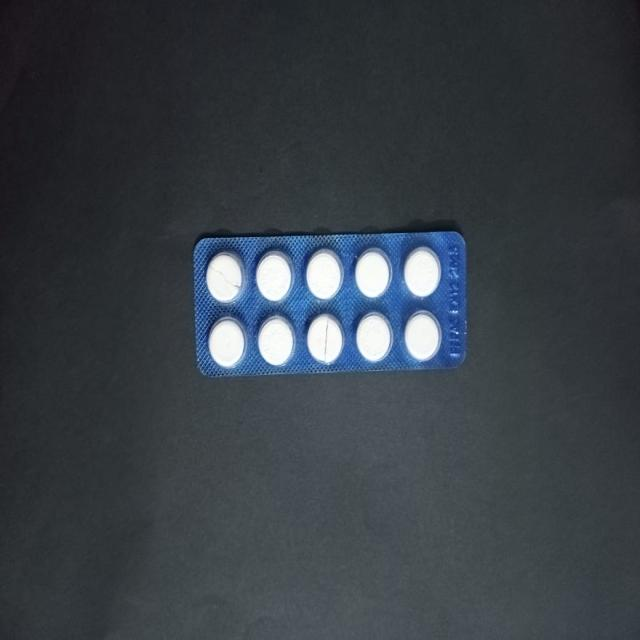defect: (205, 248, 246, 306), (305, 310, 346, 368)
